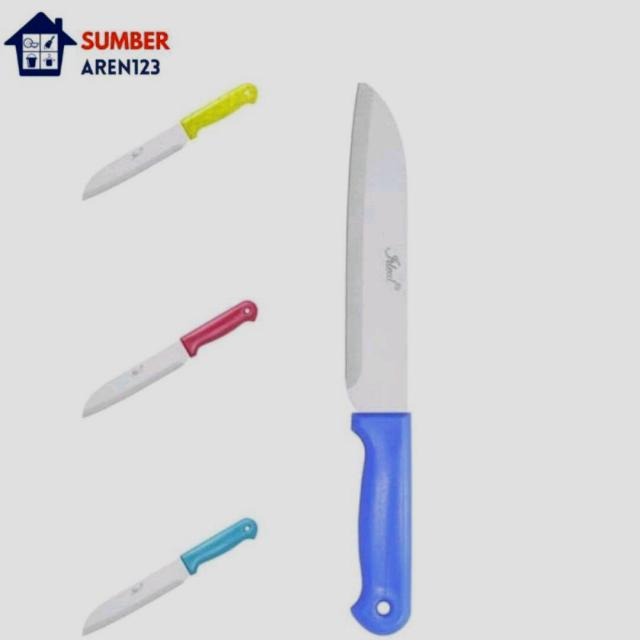Pisau: (330, 73, 481, 640), (67, 57, 277, 227), (70, 270, 271, 443), (61, 494, 280, 640)
